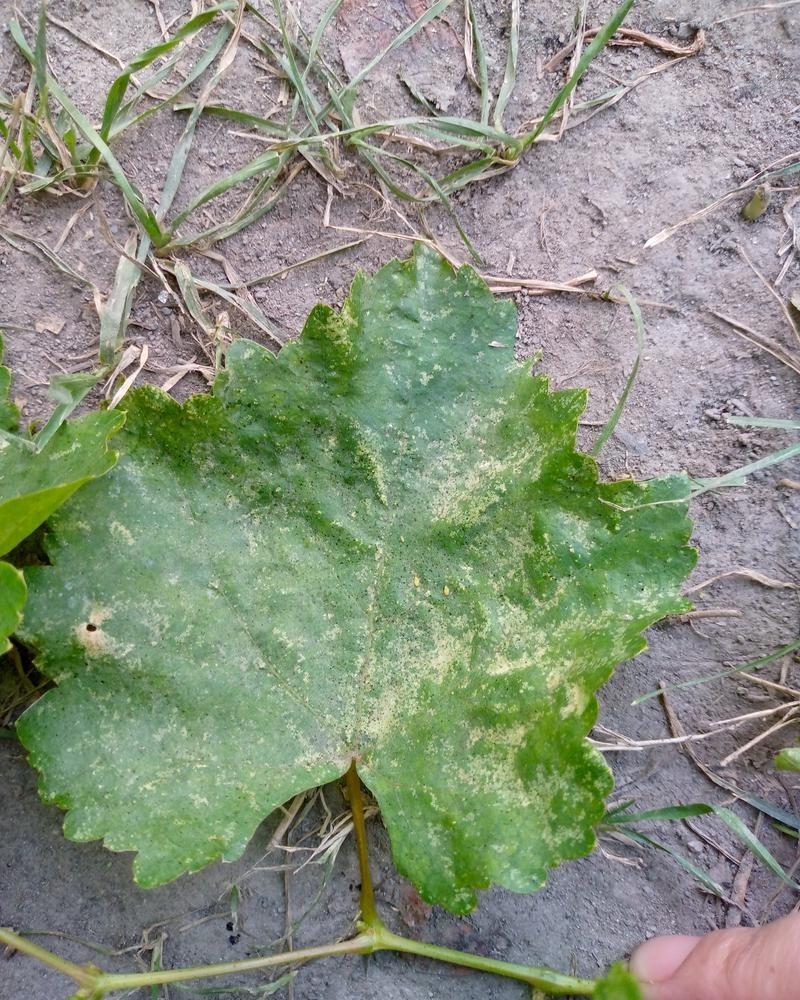Powdery-Mildew: (336, 616, 483, 767), (468, 723, 601, 831), (431, 416, 540, 526), (64, 603, 127, 666), (541, 658, 604, 721)
